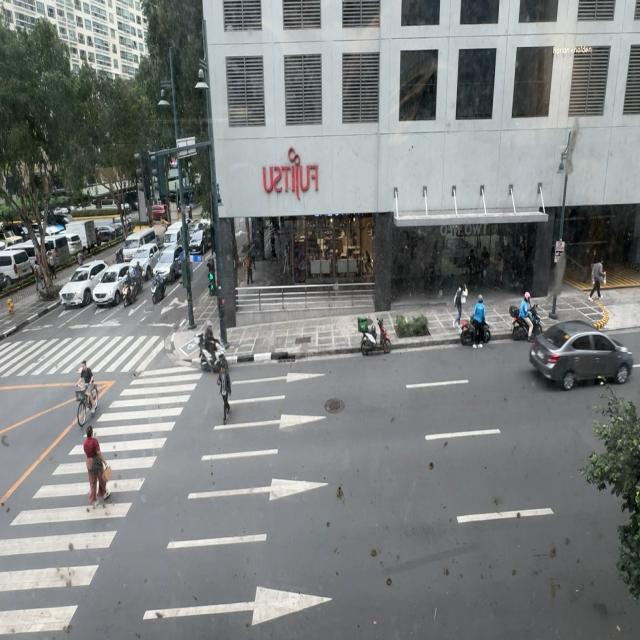jaywalking: (216, 361, 232, 424)
